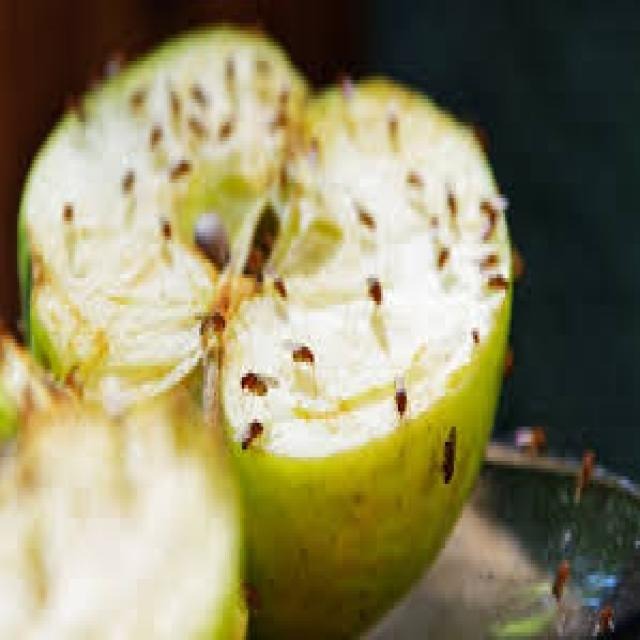fruit fly: (563, 434, 599, 507), (232, 354, 280, 408), (505, 404, 550, 461), (328, 61, 366, 126), (430, 412, 460, 492), (278, 320, 317, 377), (542, 544, 574, 606), (383, 358, 413, 423), (214, 38, 244, 103), (473, 183, 509, 228), (208, 95, 240, 145), (266, 255, 294, 312), (234, 404, 264, 457), (160, 141, 194, 187), (582, 594, 619, 636), (238, 564, 266, 617), (346, 183, 376, 232), (360, 255, 385, 312), (180, 99, 210, 145), (426, 229, 454, 278), (182, 61, 210, 110), (478, 259, 512, 297), (120, 72, 150, 114), (300, 122, 323, 175), (150, 198, 173, 248), (473, 236, 503, 271), (160, 72, 182, 118), (141, 110, 165, 152), (462, 309, 484, 354), (248, 42, 274, 80), (439, 175, 460, 221), (379, 103, 400, 148), (497, 332, 518, 377), (54, 187, 79, 224), (113, 156, 137, 194), (398, 156, 424, 191), (422, 198, 441, 232)
